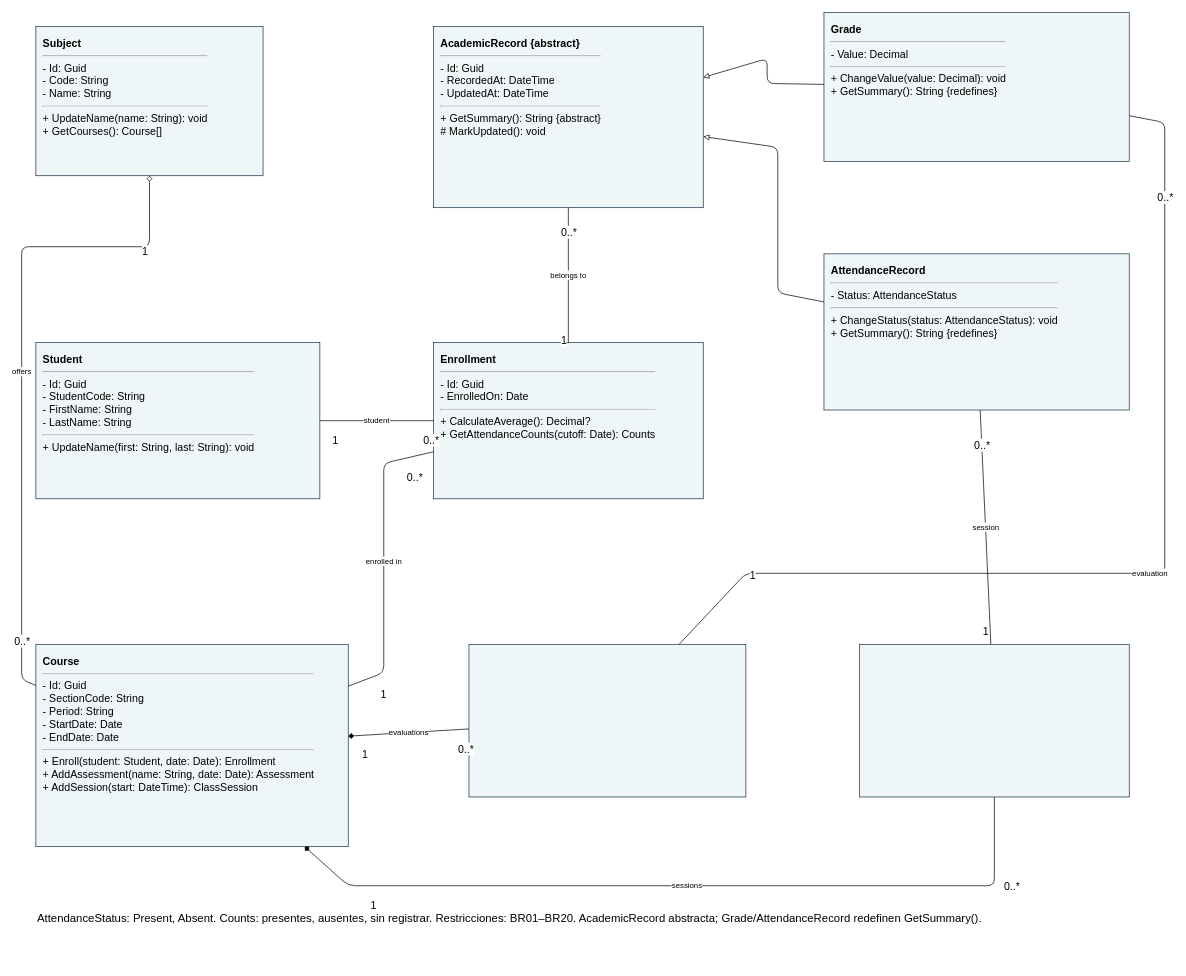
Some shapes in this 1186 by 976 pixel diagram are drawn without their labels. Each missing label, with the centre of its shape:
Assessment - Id: Guid - Name: String - Date: Date + GetSummary(): String: point 607,720
ClassSession - Id: Guid - StartsAt: DateTime + GetDate(): Date: point 994,720
